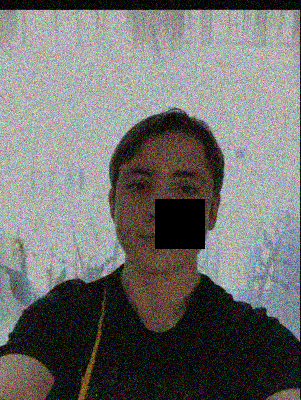without_mask: (113, 164, 211, 273)
